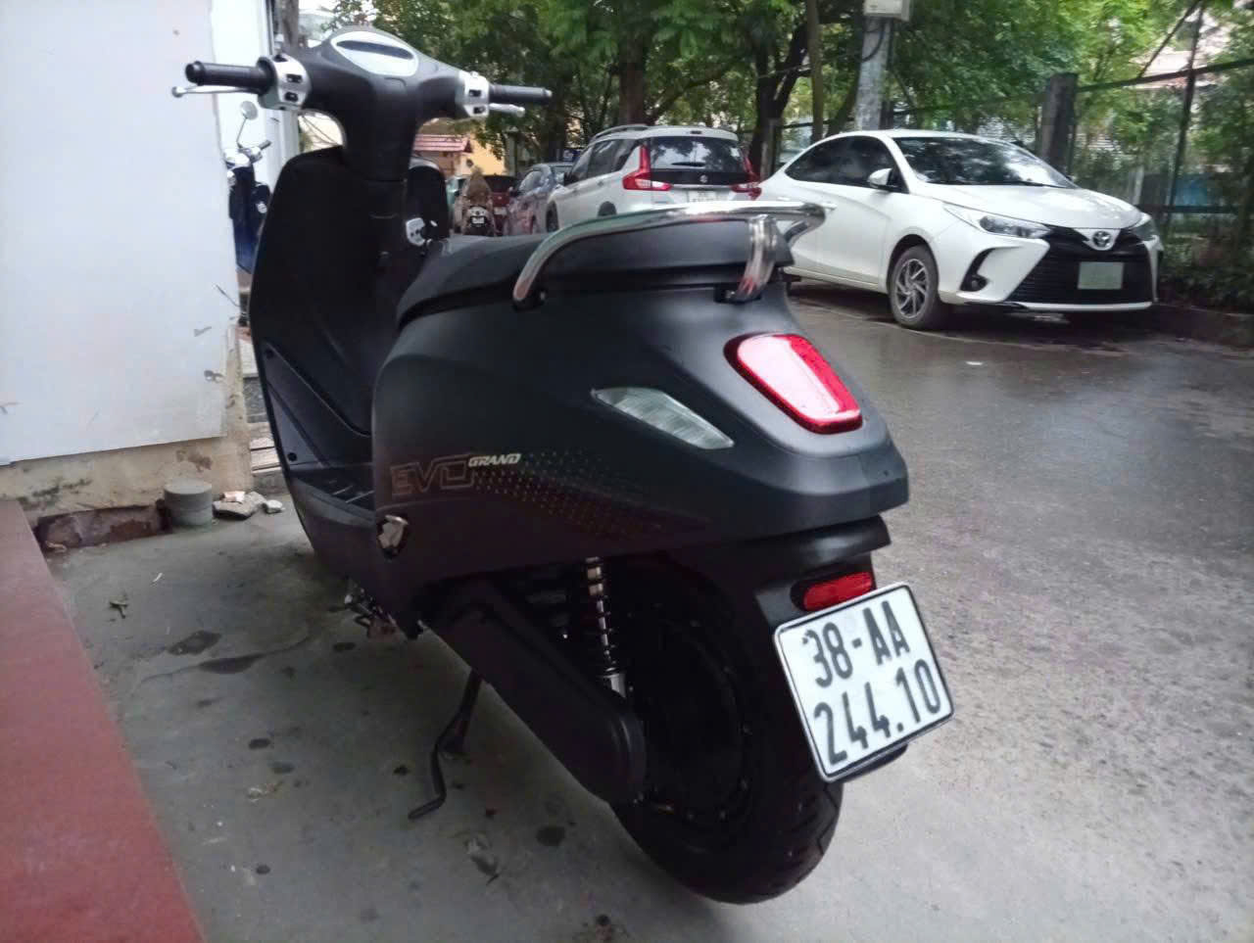Bien-so: (776, 580, 954, 787)
